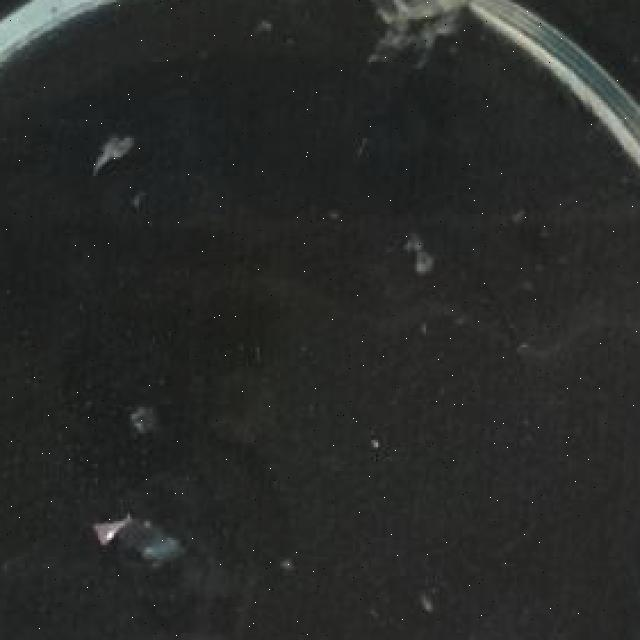Microplastic: (89, 500, 200, 588), (348, 0, 488, 62), (82, 114, 164, 198), (396, 221, 467, 302), (116, 381, 178, 459)
